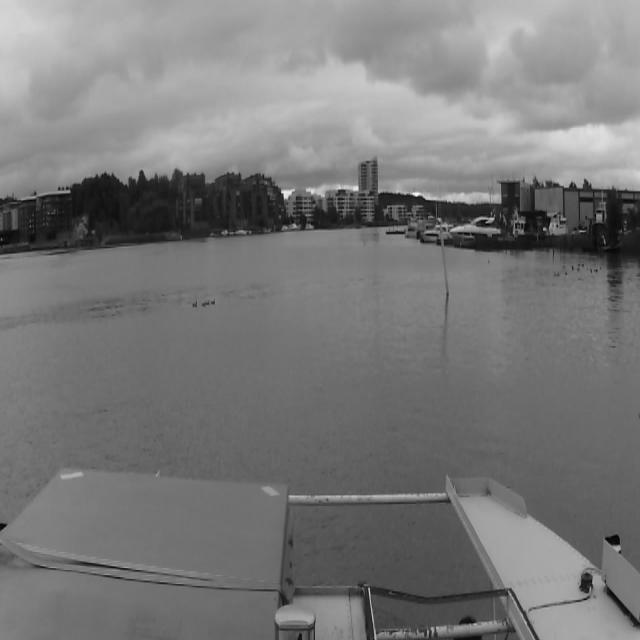ship: (450, 217, 502, 249), (234, 194, 252, 234), (420, 224, 450, 242), (228, 201, 233, 235), (291, 222, 300, 230), (304, 223, 314, 230), (281, 224, 291, 231), (221, 230, 227, 237)
